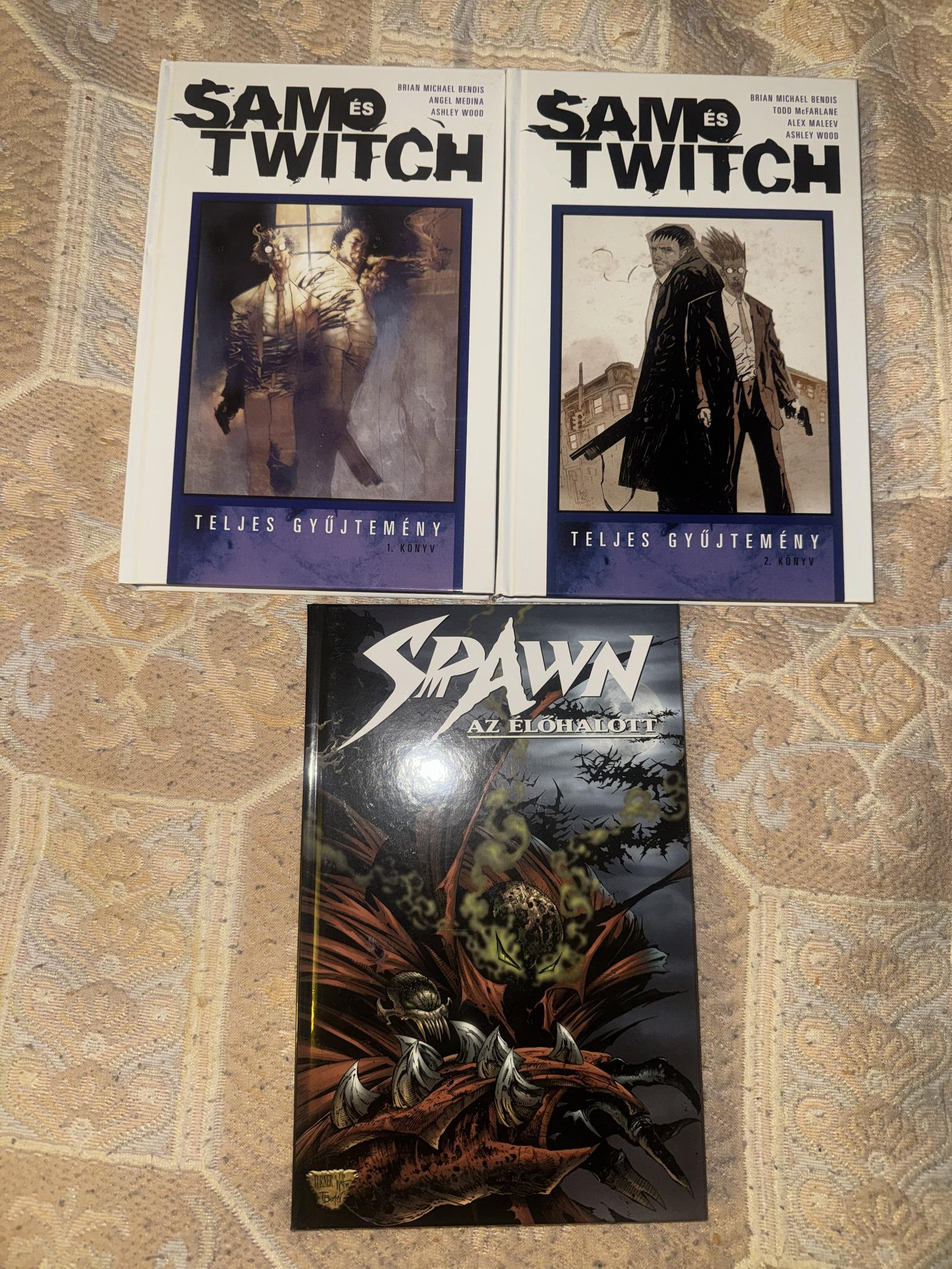comic: (287, 602, 705, 1228), (119, 58, 510, 596), (498, 71, 882, 604)
